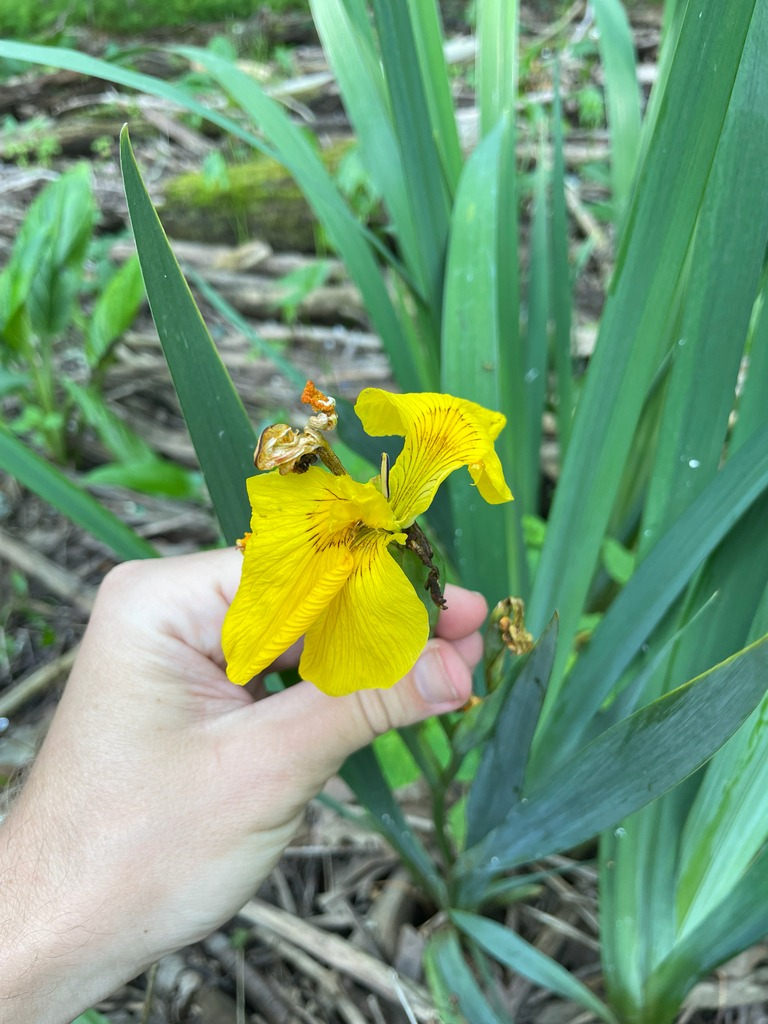yellow flag iris: (167, 331, 565, 754)
